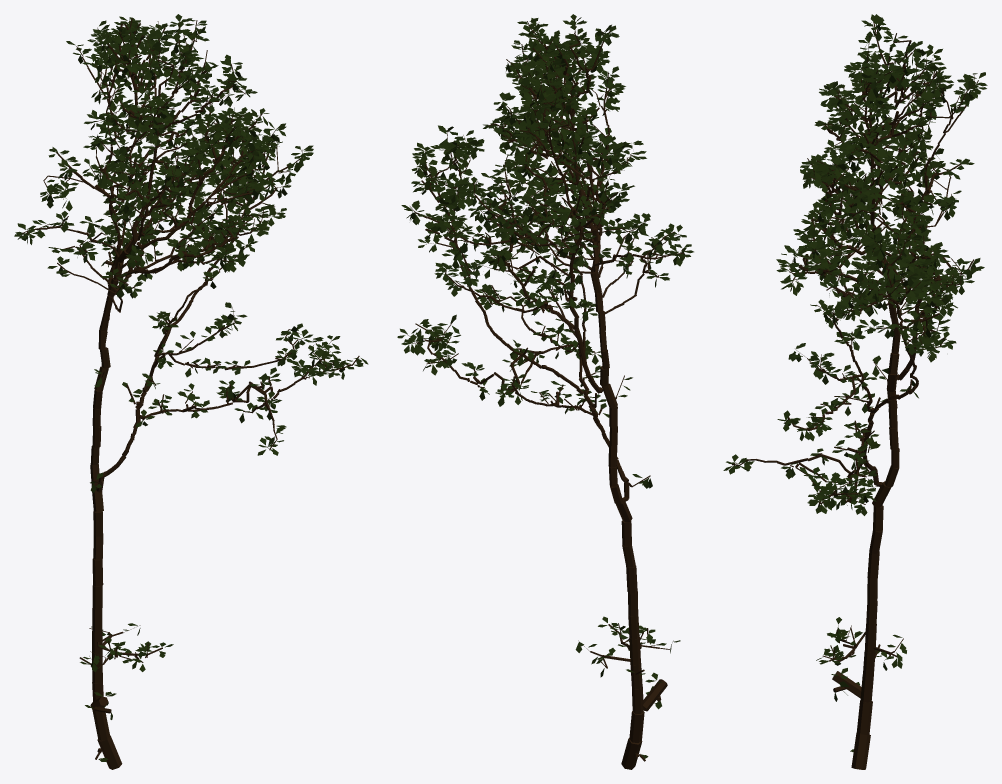
The model's file is 2022_tree_187.obj.
3 views of the same model, side by side, from view 1: azimuth 30°, elevation 25°; view 2: azimuth 150°, elevation 25°; view 3: azimuth 270°, elevation 25° (orthographic). The views are drawn at different scales.
Visible parts, largest first — view 1: Leaves, TrunkAndBranches; view 2: Leaves, TrunkAndBranches; view 3: Leaves, TrunkAndBranches.
Boxes of the visible parts, x1=… form: Leaves: x1=14, y1=14, x2=368, y2=761; TrunkAndBranches: x1=22, y1=18, x2=359, y2=769; Leaves: x1=397, y1=14, x2=693, y2=758; TrunkAndBranches: x1=407, y1=16, x2=684, y2=769; Leaves: x1=723, y1=14, x2=987, y2=752; TrunkAndBranches: x1=731, y1=22, x2=978, y2=769.
Bounding box in the file's own units: 9.05 × 20.18 × 6.34.
